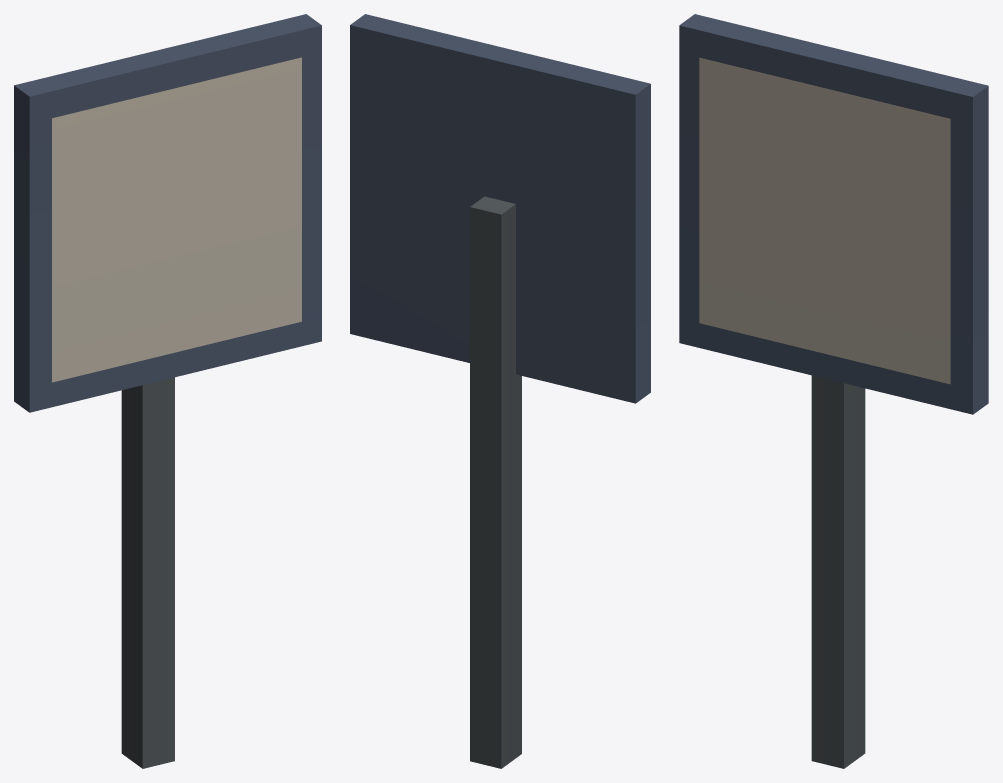
The model's file is SM_Stand_02.fbx.
3 renders of one model, left to right at view 1: azimuth 30°, elevation 25°; view 2: azimuth 150°, elevation 25°; view 3: azimuth 330°, elevation 25°, orthographic. The views are drawn at different scales.
Parts seen in each view (by area): view 1: SM_Stand_02; view 2: SM_Stand_02; view 3: SM_Stand_02.
Boxes of the visible parts, x1,y1,x2,y2 form: SM_Stand_02: (14, 14, 321, 768); SM_Stand_02: (350, 14, 650, 768); SM_Stand_02: (679, 14, 988, 768).
Bounding box in the file's own units: 17.06 × 39.51 × 3.2.
1 material, 1 textured.
